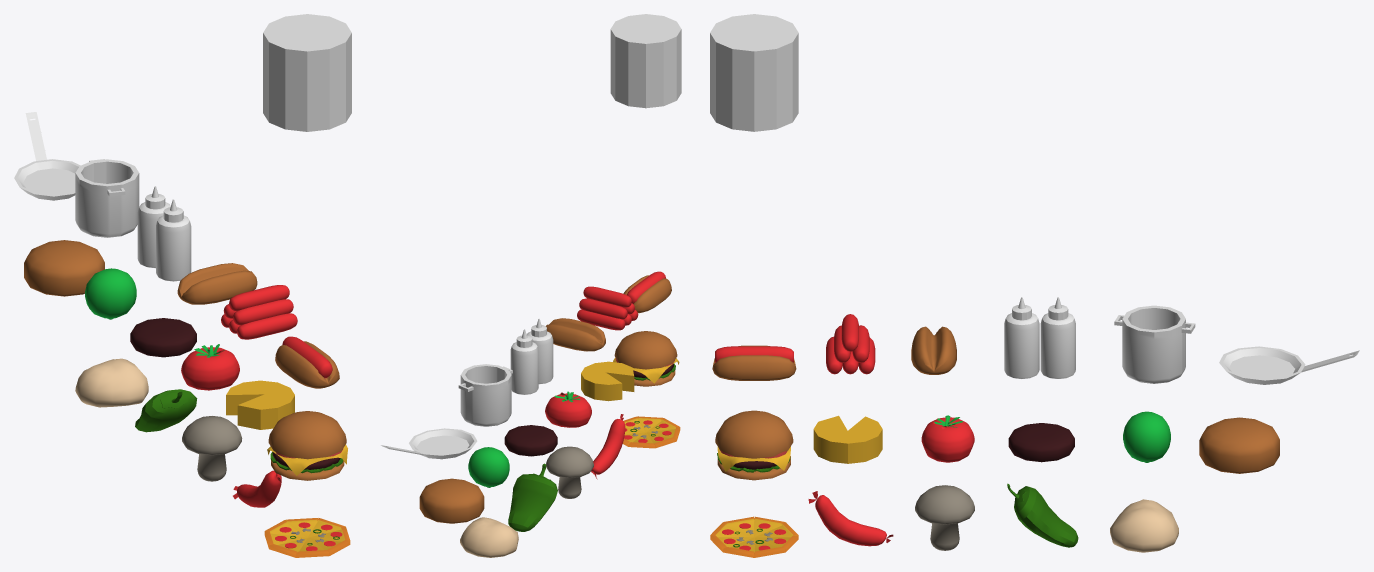
The model's file is hambuergusa .fbx.
3 renders of one model, left to right at view 1: azimuth 30°, elevation 25°; view 2: azimuth 150°, elevation 25°; view 3: azimuth 270°, elevation 25°, orthographic. The views are drawn at different scales.
Parts seen in each view (by area): view 1: Cylinder.029, Cylinder.045, Cylinder.035, Cylinder.038, Cylinder, Cylinder.030, Cylinder.031, Cylinder.046, Cylinder.027, Cylinder.042, Cylinder.043, Cylinder.006 (+10 smaller); view 2: Cylinder.029, Cylinder.045, Cylinder.035, Cylinder.028, Cylinder.038, Cylinder, Cylinder.030, Cylinder.031, Cylinder.046, Cylinder.027, Cylinder.044, Cylinder.042 (+8 smaller); view 3: Cylinder.029, Cylinder.045, Cylinder.035, Cylinder, Cylinder.046, Cylinder.030, Cylinder.031, Cylinder.027, Cylinder.044, Cylinder.043, Cylinder.006, Cylinder.038 (+8 smaller).
Part boxes in pixels (bbox=[...]): Cylinder.029: bbox=[263, 14, 351, 131]; Cylinder.045: bbox=[75, 159, 139, 237]; Cylinder.035: bbox=[24, 240, 104, 296]; Cylinder.038: bbox=[221, 285, 297, 339]; Cylinder: bbox=[268, 411, 346, 459]; Cylinder.030: bbox=[75, 358, 148, 407]; Cylinder.031: bbox=[226, 380, 294, 429]; Cylinder.046: bbox=[14, 112, 80, 200]; Cylinder.027: bbox=[182, 416, 242, 481]; Cylinder.042: bbox=[177, 263, 257, 304]; Cylinder.043: bbox=[156, 199, 191, 281]; Cylinder.006: bbox=[264, 518, 350, 557]; Cylinder.029: bbox=[610, 14, 681, 108]; Cylinder.045: bbox=[458, 364, 512, 426]; Cylinder.035: bbox=[419, 478, 484, 523]; Cylinder.028: bbox=[508, 463, 557, 531]; Cylinder.038: bbox=[577, 286, 638, 330]; Cylinder: bbox=[614, 331, 677, 369]; Cylinder.030: bbox=[460, 517, 518, 557]; Cylinder.031: bbox=[581, 361, 634, 401]; Cylinder.046: bbox=[381, 428, 477, 459]; Cylinder.027: bbox=[546, 446, 593, 498]; Cylinder.044: bbox=[510, 329, 538, 394]; Cylinder.042: bbox=[546, 318, 605, 351]; Cylinder.029: bbox=[710, 14, 798, 131]; Cylinder.045: bbox=[1114, 305, 1195, 383]; Cylinder.035: bbox=[1199, 417, 1279, 473]; Cylinder: bbox=[715, 410, 793, 458]; Cylinder.046: bbox=[1219, 346, 1359, 384]; Cylinder.030: bbox=[1110, 499, 1178, 552]; Cylinder.031: bbox=[813, 415, 882, 463]; Cylinder.027: bbox=[915, 485, 974, 550]; Cylinder.044: bbox=[1040, 297, 1075, 378]; Cylinder.043: bbox=[1004, 297, 1039, 378]; Cylinder.006: bbox=[710, 516, 798, 557]; Cylinder.038: bbox=[826, 314, 875, 374].
Bounding box in the file's own units: 200 × 1281 × 1465.
